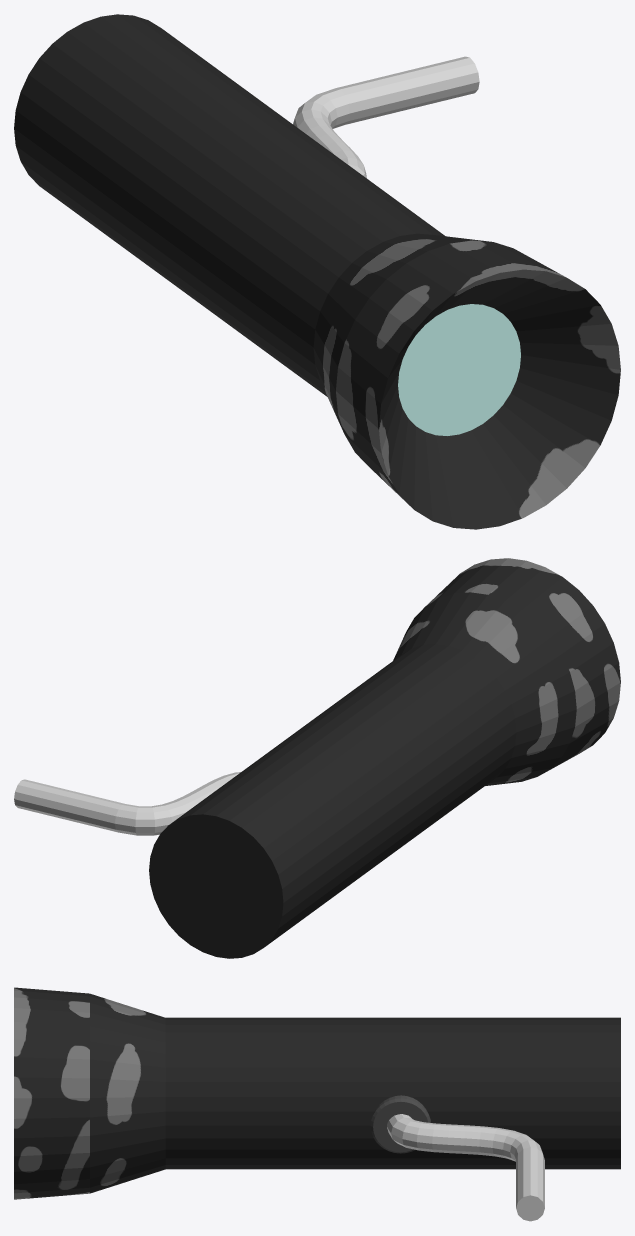
Rendered from m_Flashlight16Final.fbx.
3 renders of one model, top to bottom at view 1: azimuth 30°, elevation 25°; view 2: azimuth 150°, elevation 25°; view 3: azimuth 270°, elevation 25°, orthographic. The views are drawn at different scales.
Visible parts, largest first — view 1: Flashlight base, Handle; view 2: Flashlight base, Handle; view 3: Flashlight base, Handle, Crank.
Boxes of the visible parts, x1,y1,x2,y2 form: Flashlight base: (14,14,620,529); Handle: (293,56,479,178); Flashlight base: (149,558,620,958); Handle: (14,772,240,835); Flashlight base: (14,987,620,1199); Handle: (387,1114,544,1221); Crank: (370,1095,430,1153).
Size of the model in its own units: 499 by 280 by 800.
3 materials, 3 textured.
